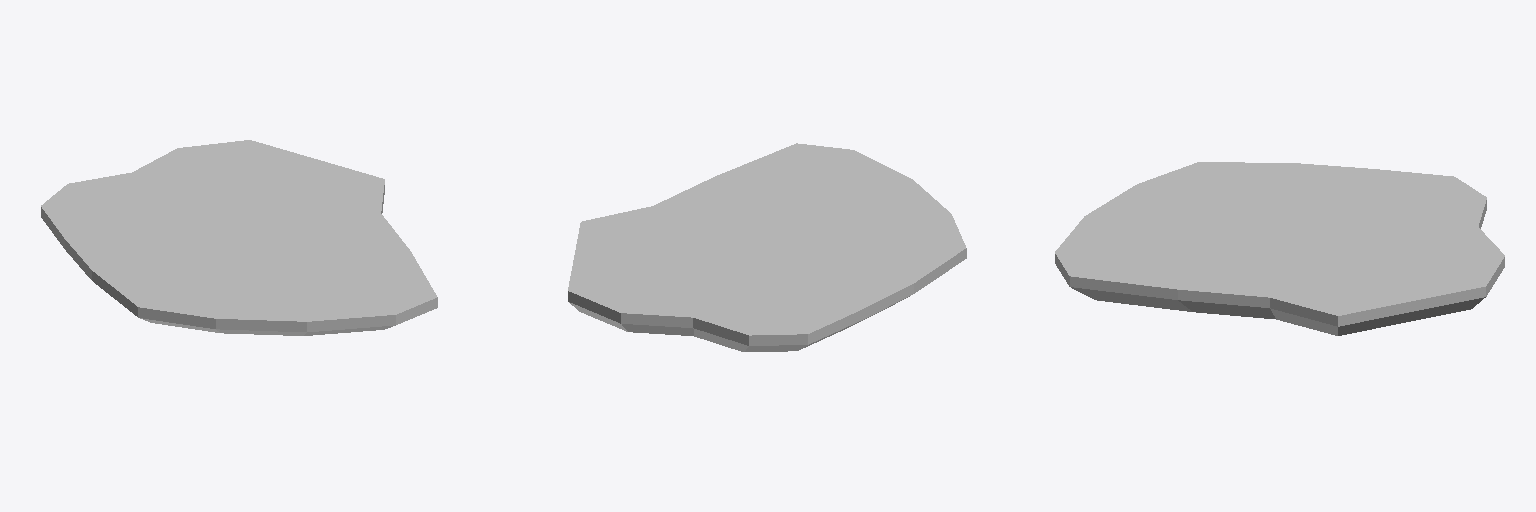
Rendered from Level2SecondPlat.obj.
3 renders of one model, left to right at view 1: azimuth 30°, elevation 25°; view 2: azimuth 150°, elevation 25°; view 3: azimuth 270°, elevation 25°, orthographic.
Visible parts, largest first — view 1: Level2SecondPlat_Plane.027; view 2: Level2SecondPlat_Plane.027; view 3: Level2SecondPlat_Plane.027.
Part boxes in pixels (x1,y1,x2,y2): Level2SecondPlat_Plane.027: (41,140,437,335); Level2SecondPlat_Plane.027: (568,143,966,351); Level2SecondPlat_Plane.027: (1055,162,1504,335).
Bounding box in the file's own units: 93.76 × 9.63 × 116.